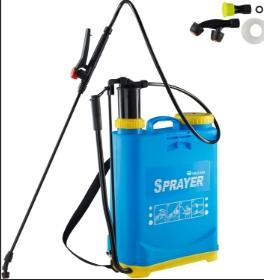PULVERISATEUR: (3, 3, 264, 280)
